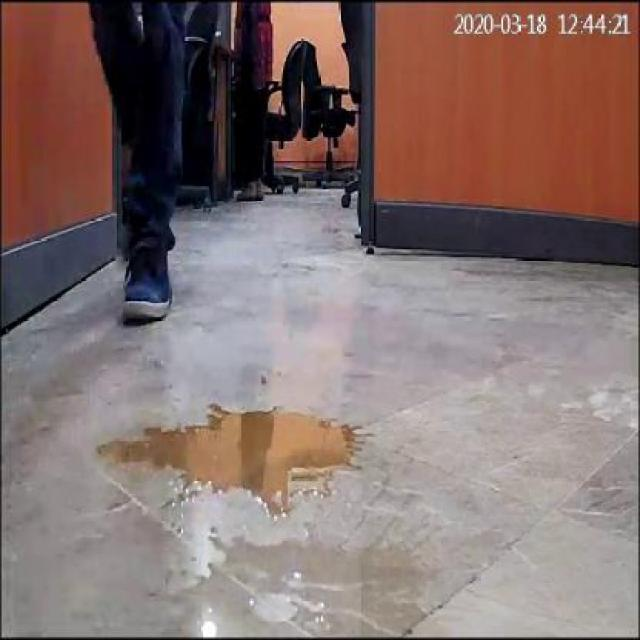spill: (95, 394, 377, 508), (172, 524, 437, 636)
